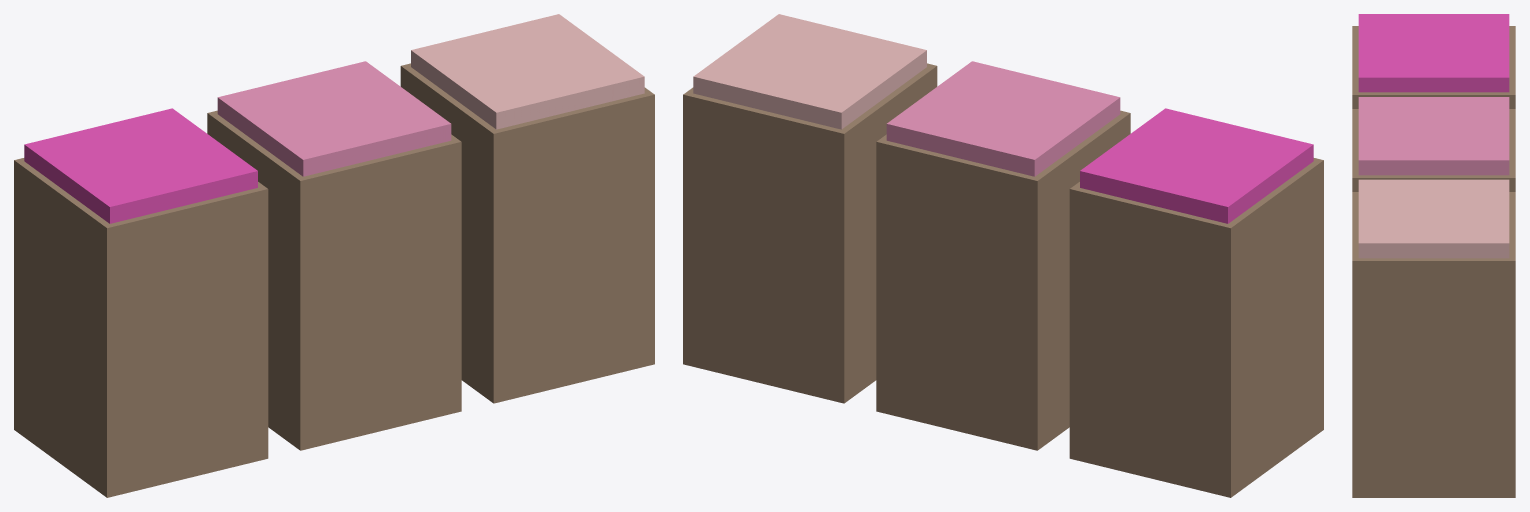
File: candy_bins.glb
The picture shows the model from 3 angles, left to right: view 1: azimuth 30°, elevation 25°; view 2: azimuth 150°, elevation 25°; view 3: azimuth 270°, elevation 25°; orthographic projection. The views are drawn at different scales.
Parts seen in each view (by area): view 1: wood, box.003, box.001, box.005; view 2: wood, box.003, box.001, box.005; view 3: wood, box.005, box.001, box.003.
Part boxes in pixels (<box>): wood: <box>14,63,654,497</box>; box.003: <box>217,61,451,176</box>; box.001: <box>24,108,257,223</box>; box.005: <box>411,14,644,129</box>; wood: <box>683,63,1323,497</box>; box.003: <box>886,61,1120,176</box>; box.001: <box>1080,108,1313,223</box>; box.005: <box>693,14,926,129</box>; wood: <box>1352,26,1515,497</box>; box.005: <box>1358,179,1509,258</box>; box.001: <box>1358,14,1509,92</box>; box.003: <box>1358,97,1509,175</box>.
Size of the model in its own units: 1.7 by 0.85 by 0.5.
